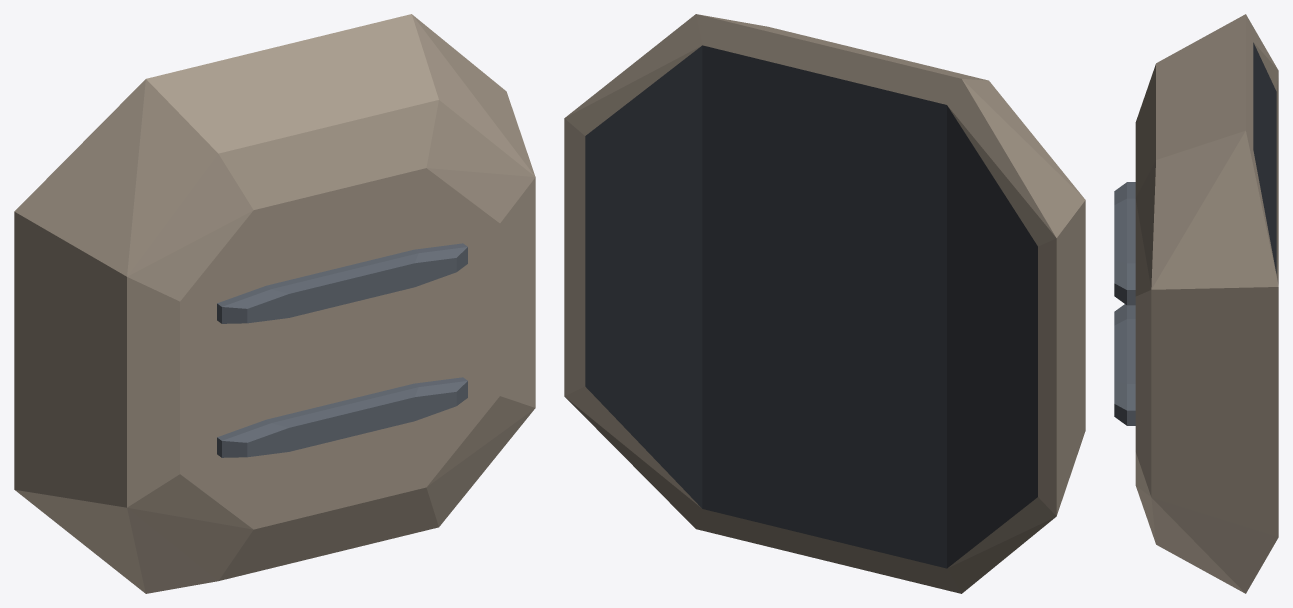
Rendered from knee_heavy.glb.
3 views of the same model, side by side, from view 1: azimuth 30°, elevation 25°; view 2: azimuth 150°, elevation 25°; view 3: azimuth 270°, elevation 25° (orthographic). The views are drawn at different scales.
Visible parts, largest first — view 1: knee_heavy; view 2: knee_heavy; view 3: knee_heavy.
Boxes of the visible parts, box(x1,y1,x2,y2) form: knee_heavy: box(14, 14, 535, 593); knee_heavy: box(564, 14, 1085, 593); knee_heavy: box(1114, 14, 1278, 593).
Bounding box in the file's own units: 1 × 1 × 0.322.
